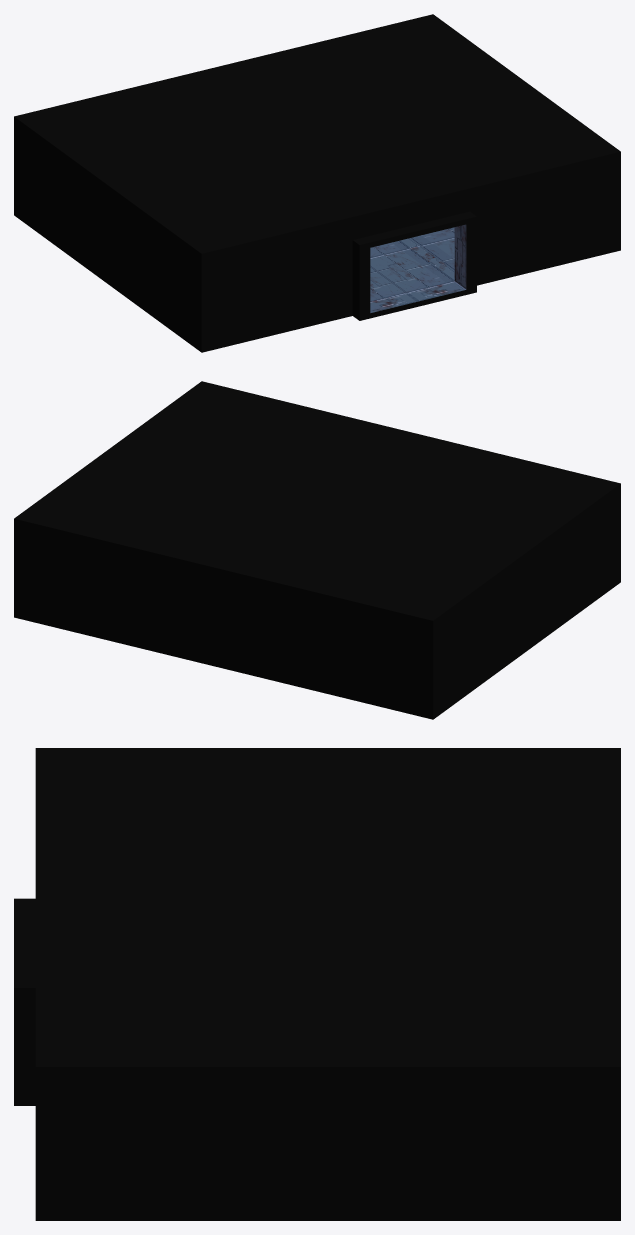
The model's file is sci-fi-room.glb.
The picture shows the model from 3 angles, top to bottom: view 1: azimuth 30°, elevation 25°; view 2: azimuth 150°, elevation 25°; view 3: azimuth 270°, elevation 25°; orthographic projection. The views are drawn at different scales.
Parts seen in each view (by area): view 1: Mesh_cube1_default; view 2: Mesh_cube1_default; view 3: Mesh_cube1_default.
Boxes of the visible parts, x1,y1,x2,y2 form: Mesh_cube1_default: (14, 14, 620, 352); Mesh_cube1_default: (14, 381, 620, 719); Mesh_cube1_default: (14, 748, 620, 1220).
Bounding box in the file's own units: 8.45 × 1.9 × 6.8.
Materials: 1 (1 with a texture image).
